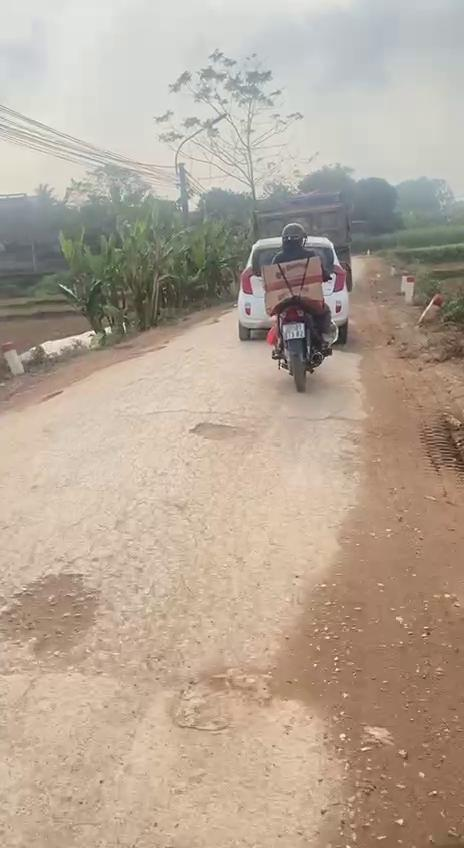pothole: (0, 565, 110, 674), (190, 418, 259, 443)
